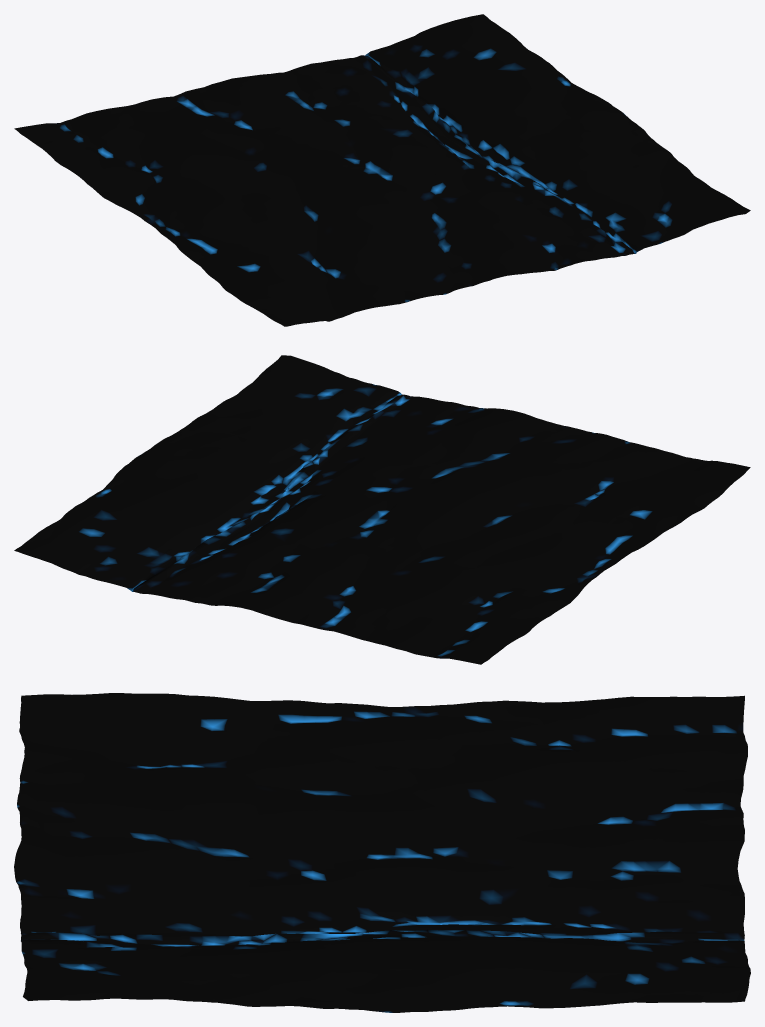
The model's file is Ocean02.fbx.
The picture shows the model from 3 angles, top to bottom: view 1: azimuth 30°, elevation 25°; view 2: azimuth 150°, elevation 25°; view 3: azimuth 270°, elevation 25°; orthographic projection. The views are drawn at different scales.
Parts seen in each view (by area): view 1: ocean2; view 2: ocean2; view 3: ocean2.
Boxes of the visible parts, x1,y1,x2,y2 form: ocean2: [14, 14, 750, 326]; ocean2: [14, 355, 750, 664]; ocean2: [14, 693, 750, 1012].
Size of the model in its own units: 36.21 by 1.13 by 35.78.
